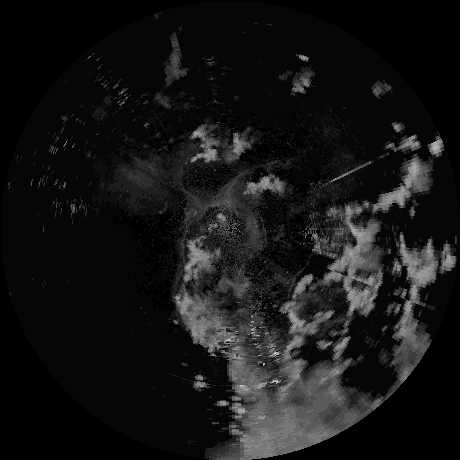frontgust: (229, 159, 290, 189), (173, 221, 191, 285)
